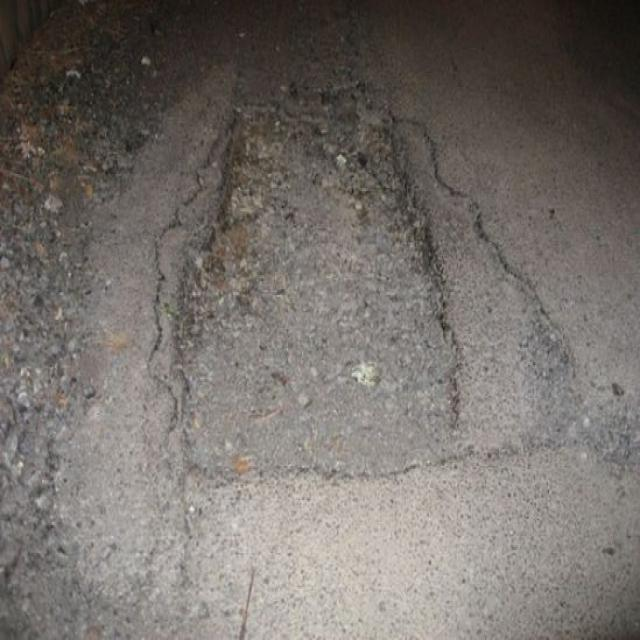pothole: (152, 71, 578, 494), (167, 70, 463, 490)
